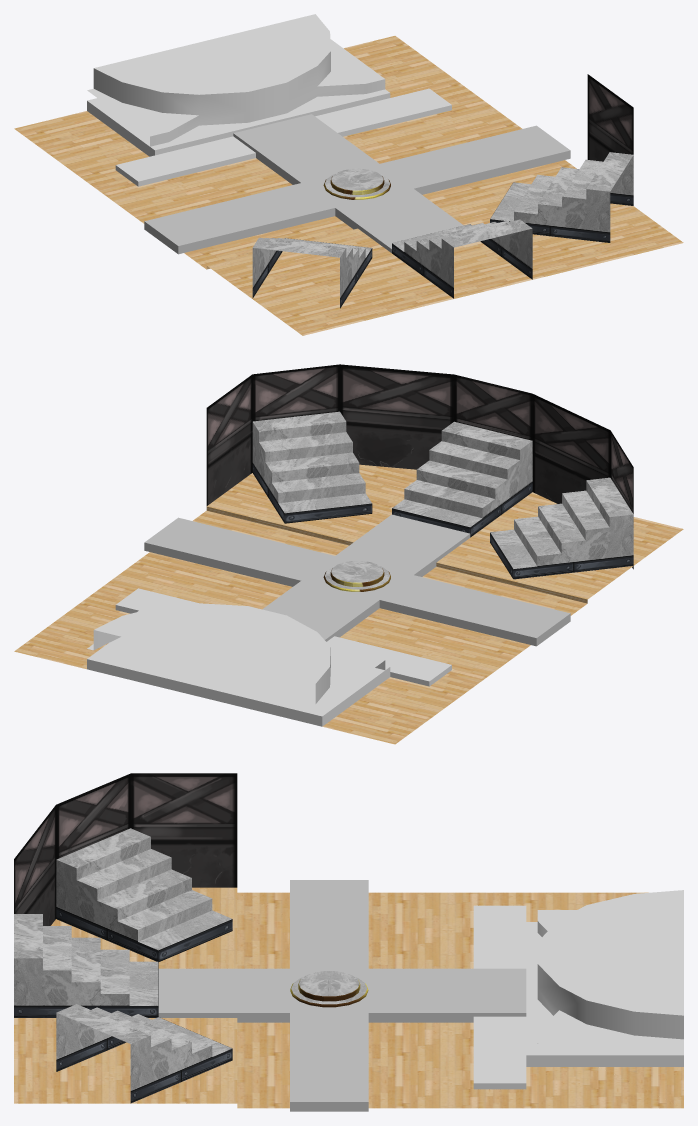
3 renders of one model, top to bottom at view 1: azimuth 30°, elevation 25°; view 2: azimuth 150°, elevation 25°; view 3: azimuth 270°, elevation 25°, orthographic. The views are drawn at different scales.
Parts seen in each view (by area): view 1: Floor, Box012, Cylinder005, Box001, Seating_004, Seating_002, Seating_003, Walls_front, Cylinder006; view 2: Floor, Walls_front, Box012, Box001, Cylinder005, Seating_002, Seating_004, Seating_003, Cylinder006; view 3: Floor, Box012, Cylinder005, Walls_front, Seating_003, Box001, Seating_002, Seating_004, Cylinder006.
Boxes of the visible parts, x1,y1,x2,y2 form: Floor: (14, 36, 683, 335); Box012: (144, 114, 570, 254); Cylinder005: (87, 14, 385, 146); Box001: (87, 88, 451, 186); Seating_004: (490, 152, 633, 242); Seating_002: (392, 219, 532, 298); Seating_003: (252, 237, 372, 308); Walls_front: (587, 74, 633, 161); Cylinder006: (323, 168, 390, 199); Floor: (14, 464, 683, 744); Walls_front: (206, 364, 633, 569); Box012: (144, 514, 570, 646); Box001: (87, 588, 451, 726); Cylinder005: (87, 602, 385, 705); Seating_002: (392, 421, 532, 537); Seating_004: (252, 411, 372, 523); Seating_003: (490, 477, 633, 579); Cylinder006: (323, 561, 390, 591); Floor: (14, 887, 683, 1108); Box012: (158, 880, 526, 1111); Cylinder005: (537, 890, 683, 1043); Walls_front: (14, 773, 237, 925); Seating_003: (56, 828, 232, 961); Box001: (473, 905, 683, 1089); Seating_002: (14, 914, 158, 1017); Seating_004: (56, 1004, 232, 1103); Cylinder006: (290, 971, 368, 1007).
Size of the model in its own units: 2000 by 2550 by 500.
